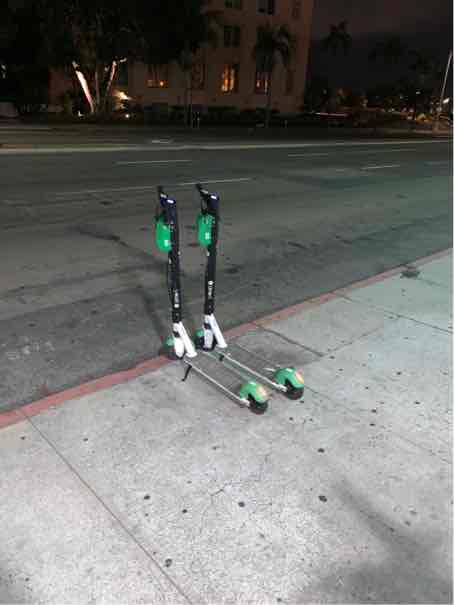too close: (149, 327, 192, 374), (192, 317, 237, 360)
